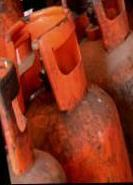cylinder: (1, 0, 133, 185)
